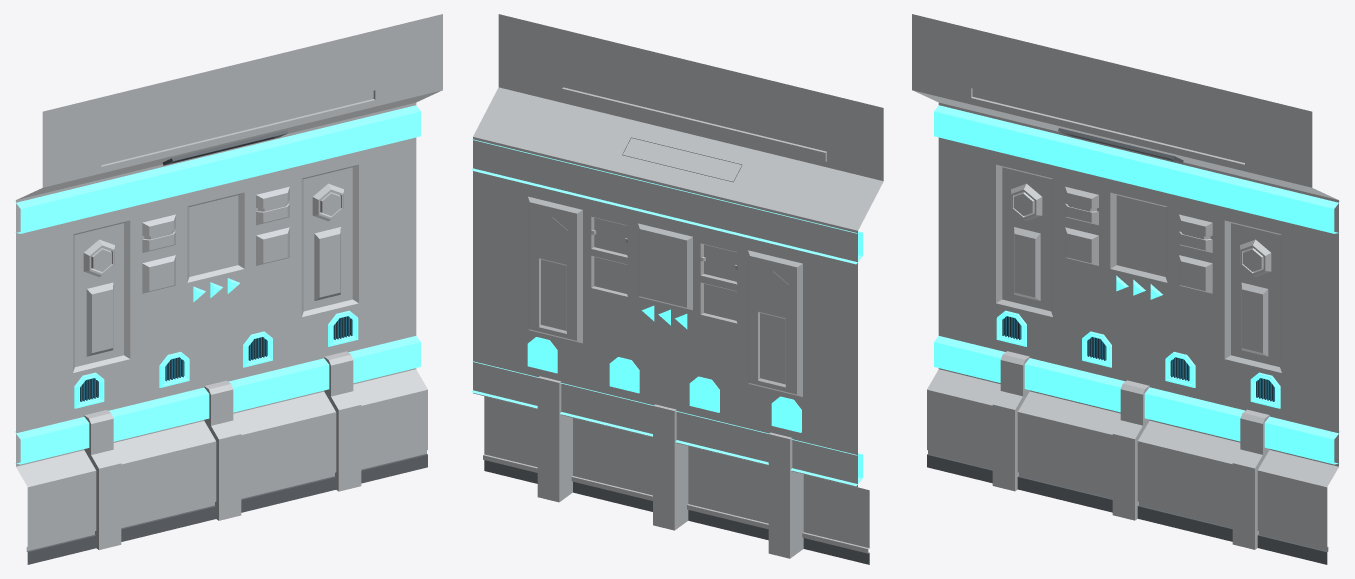
File: wall_3-C2woAXCo.glb
3 renders of one model, left to right at view 1: azimuth 30°, elevation 25°; view 2: azimuth 150°, elevation 25°; view 3: azimuth 330°, elevation 25°, orthographic. The views are drawn at different scales.
Parts seen in each view (by area): view 1: Wall_3; view 2: Wall_3; view 3: Wall_3.
Boxes of the visible parts, x1,y1,x2,y2 form: Wall_3: [14, 14, 442, 564]; Wall_3: [471, 14, 883, 564]; Wall_3: [912, 14, 1340, 564].
Size of the model in its own units: 3.34 by 3.7 by 0.4368.
